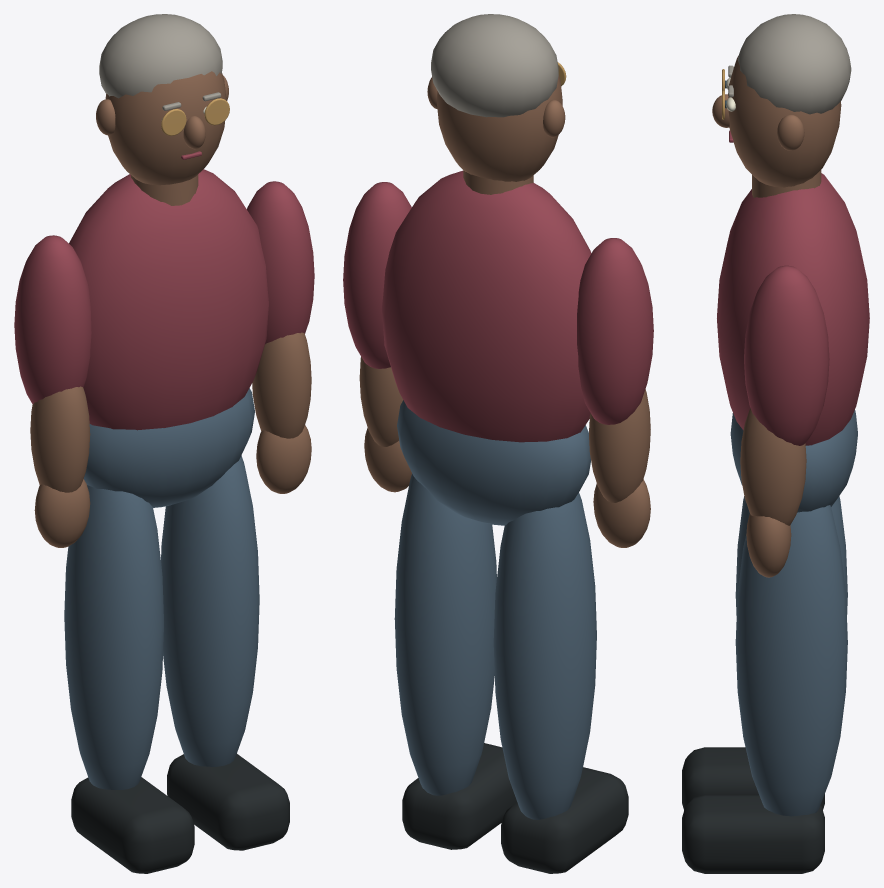
File: Moira.glb
The picture shows the model from 3 angles, left to right: view 1: azimuth 30°, elevation 25°; view 2: azimuth 150°, elevation 25°; view 3: azimuth 270°, elevation 25°; orthographic projection. The views are drawn at different scales.
Visible parts, largest first — view 1: Shirt torso.001, Trouser leg.002, Trouser leg.003, Hips.001, Sleeve.002, Boot.002, Face.001, Boot.003, Hair cap.001, Sleeve.003, Forearm.002, Forearm.003 (+5 smaller); view 2: Shirt torso.001, Trouser leg.002, Trouser leg.003, Hips.001, Sleeve.002, Hair cap.001, Boot.002, Sleeve.003, Face.001, Boot.003, Forearm.002, Forearm.003 (+4 smaller); view 3: Trouser leg.003, Shirt torso.001, Sleeve.003, Boot.003, Hair cap.001, Face.001, Forearm.003, Hips.001, Boot.002, Hand.003, Trouser leg.002, Ear.003 (+1 smaller).
Part boxes in pixels (x1,y1,x2,y2): Shirt torso.001: (69,169,268,430); Trouser leg.002: (64,485,163,789); Trouser leg.003: (161,455,259,766); Hips.001: (83,388,254,507); Sleeve.002: (14,235,91,403); Boot.002: (71,777,194,873); Face.001: (105,71,226,185); Boot.003: (167,754,289,850); Hair cap.001: (99,14,222,98); Sleeve.003: (247,181,314,344); Forearm.002: (30,386,90,492); Forearm.003: (252,332,311,438); Shirt torso.001: (381,170,591,442); Trouser leg.002: (493,493,596,819); Trouser leg.003: (394,473,496,795); Hips.001: (397,400,590,525); Sleeve.002: (577,238,653,424); Hair cap.001: (431,14,558,117); Boot.002: (501,767,628,873); Sleeve.003: (343,182,411,368); Face.001: (437,74,562,181); Boot.003: (402,743,516,849); Forearm.002: (589,389,650,502); Forearm.003: (359,357,402,446); Trouser leg.003: (735,505,847,816); Shirt torso.001: (717,173,869,445); Sleeve.003: (744,265,829,445); Boot.003: (682,794,824,873); Hair cap.001: (737,14,851,114); Face.001: (728,56,841,187); Forearm.003: (740,408,806,525); Hips.001: (730,410,857,512); Boot.002: (682,747,824,810); Hand.003: (746,513,791,577); Trouser leg.002: (735,496,847,615); Ear.003: (777,114,804,150).
Bounding box in the file's own units: 0.664 × 1.77 × 0.368.
